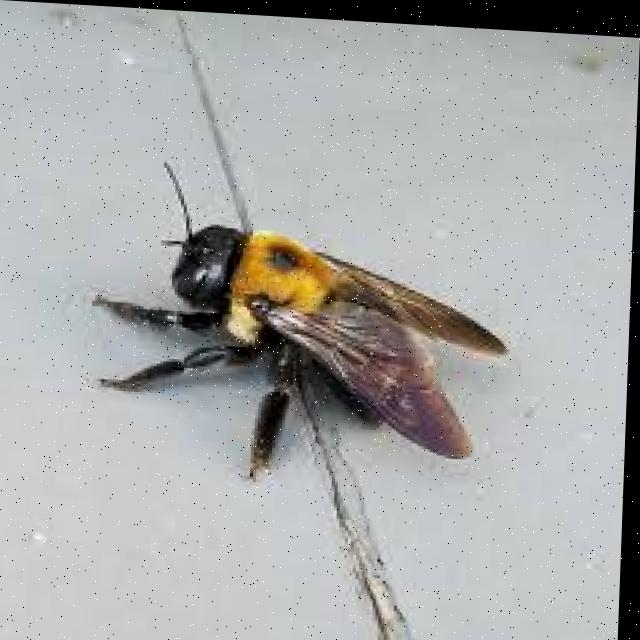Xylocopa: (82, 135, 512, 483)
